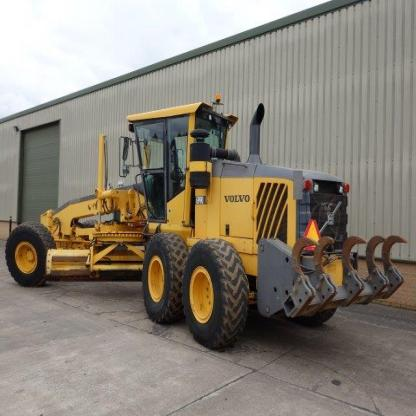bull_dozer/loader/grader: (8, 94, 400, 353)
